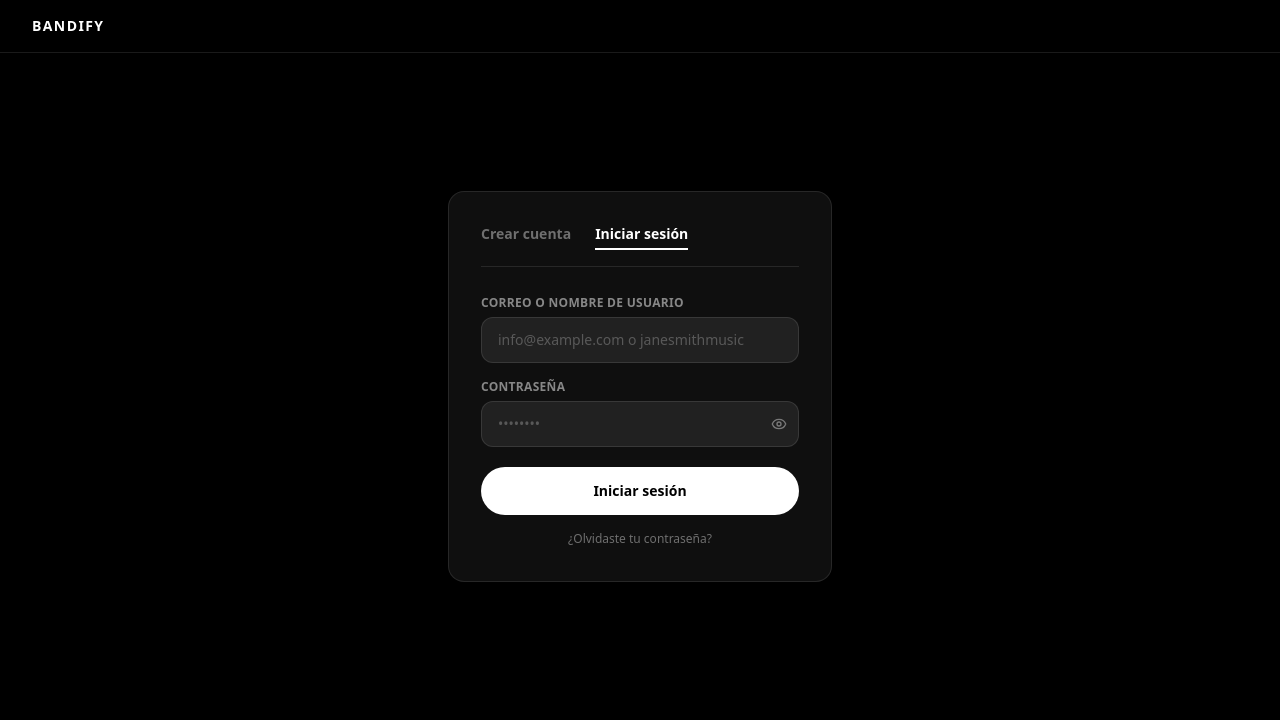
Test: Auth — happy path › muestra un error y no navega si las credenciales son incorrectas
Type "ana@test.cl" into the field named "identifier" at (640, 340), box [481,317,799,363]
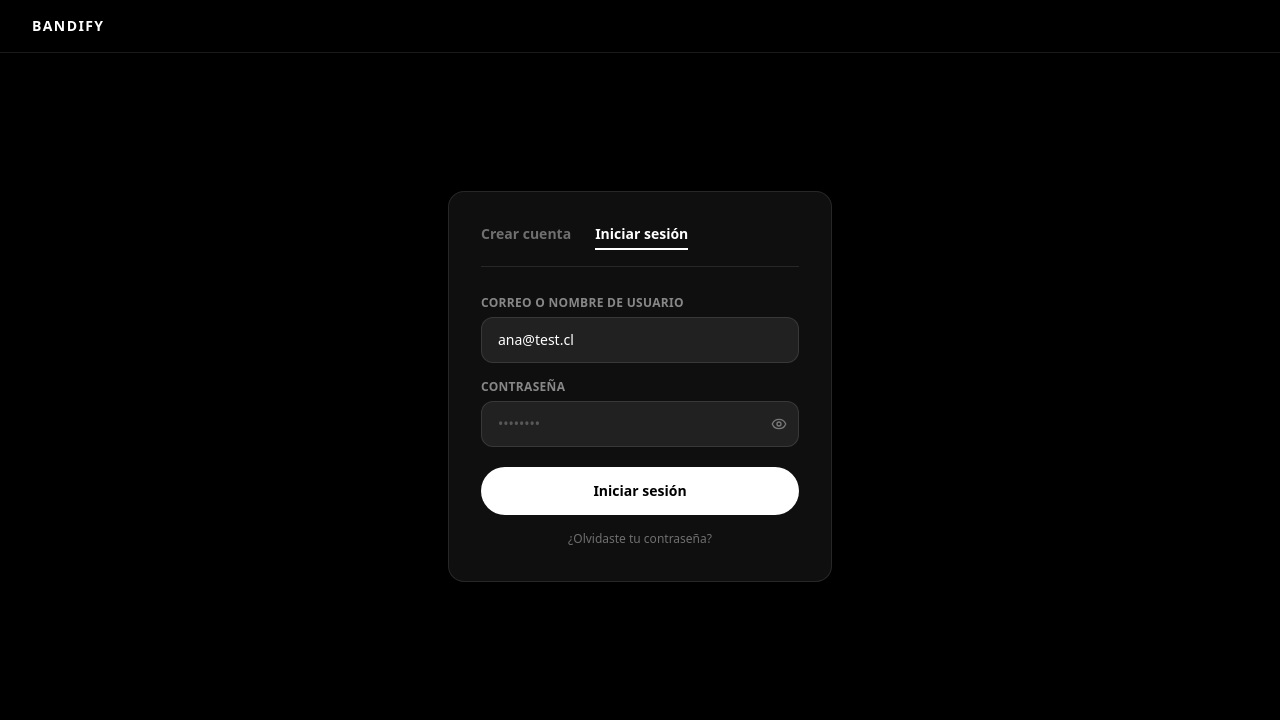
Type "clave-incorrecta" into the password field named "password" at (640, 424), box [481,401,799,447]
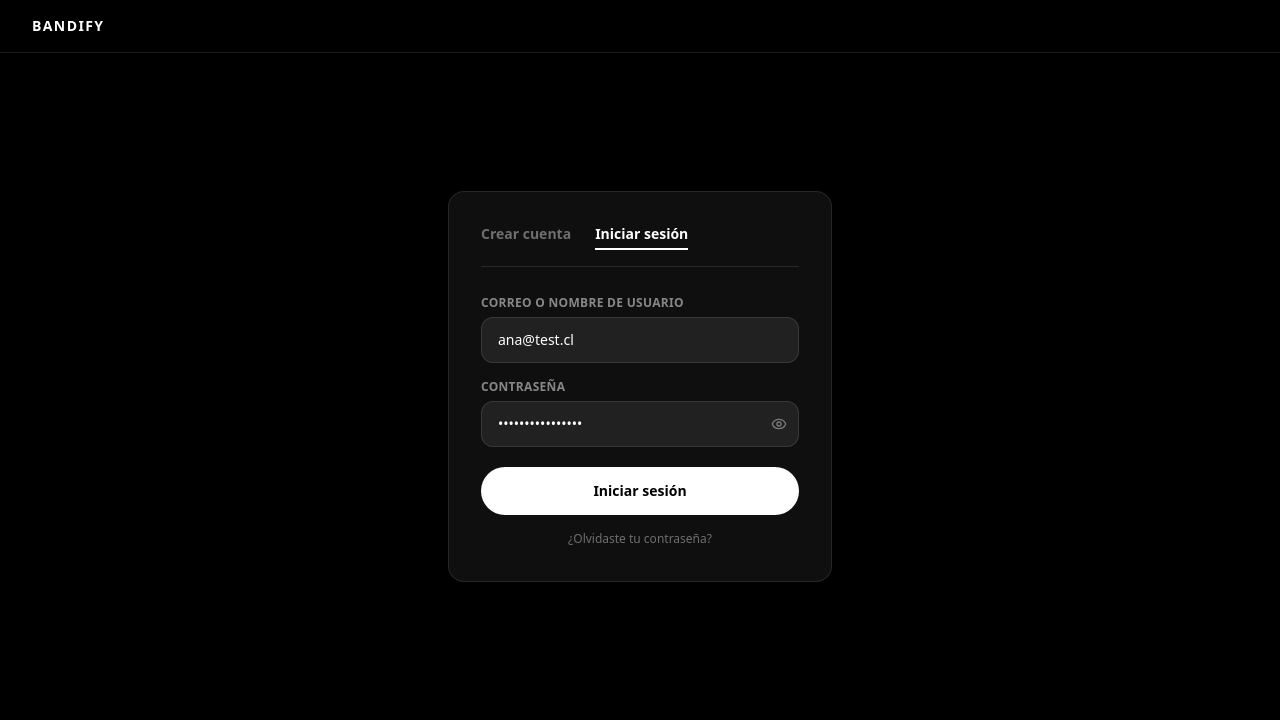
Click the submit button at (640, 491), box [481,467,799,515]
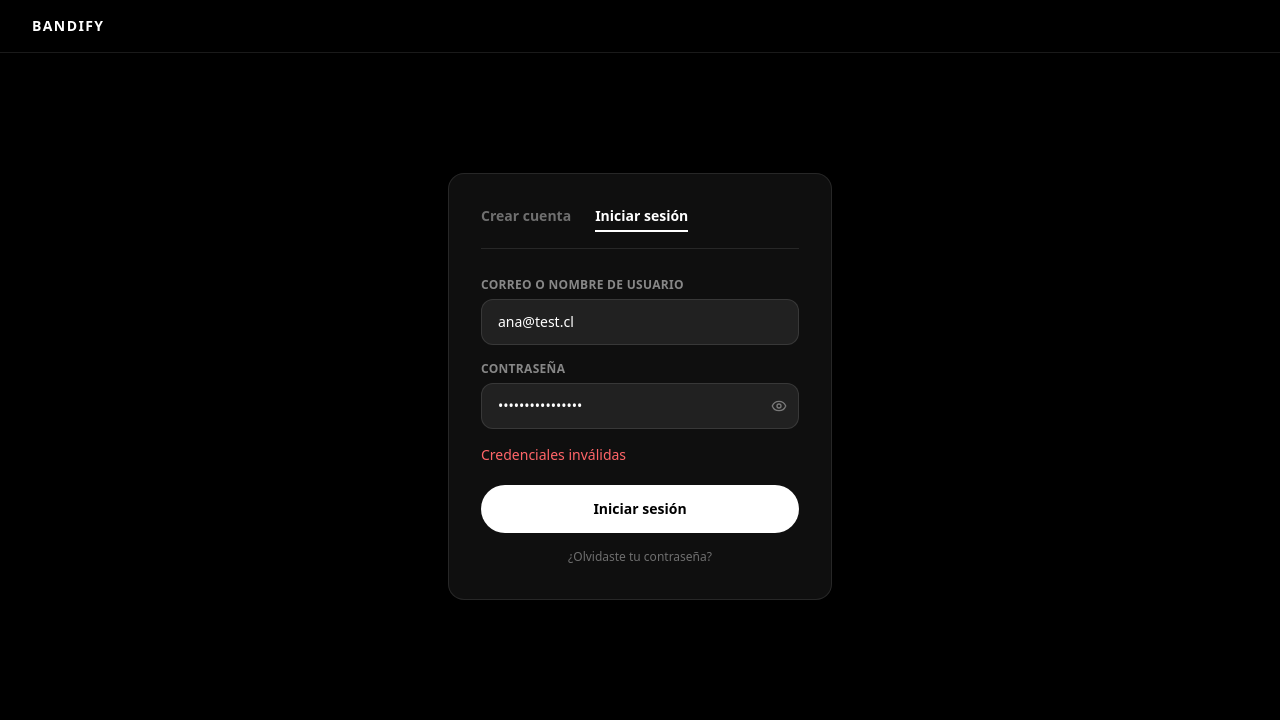
Expected: the text "Credenciales inválidas" is shown, [481,445,626,464]
